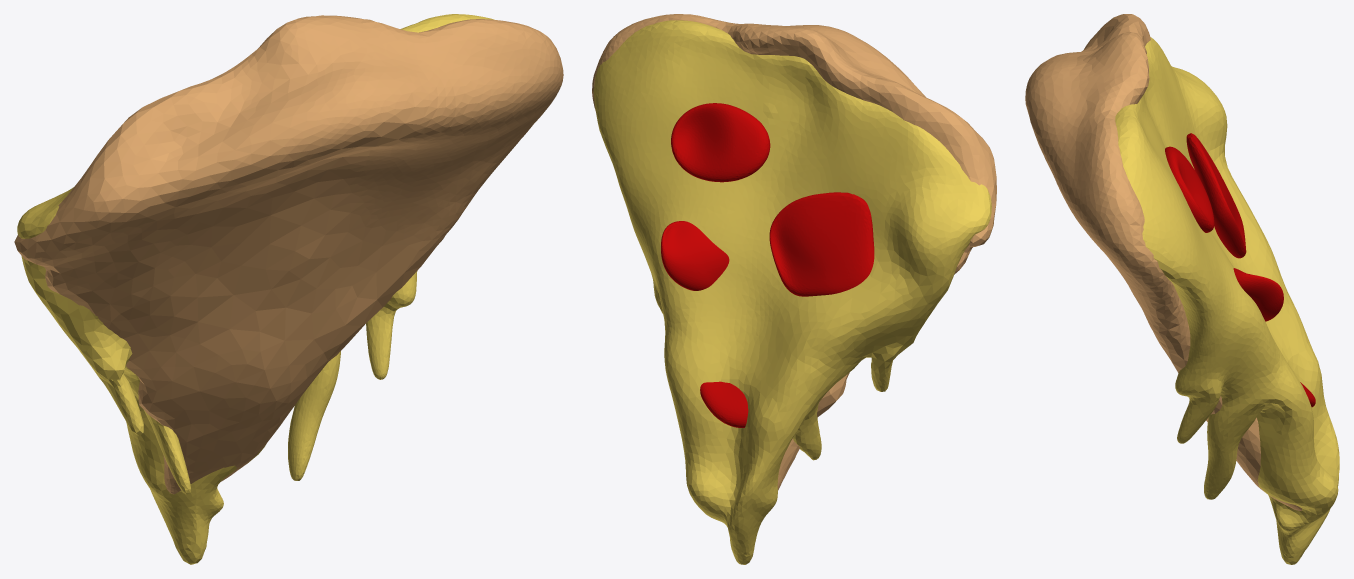
The model's file is Pizza.fbx.
The picture shows the model from 3 angles, left to right: view 1: azimuth 30°, elevation 25°; view 2: azimuth 150°, elevation 25°; view 3: azimuth 270°, elevation 25°; orthographic projection. The views are drawn at different scales.
Parts seen in each view (by area): view 1: polySurface13; view 2: polySurface13; view 3: polySurface13.
Boxes of the visible parts, box(x1,y1,x2,y2) form: polySurface13: box(14, 14, 563, 564); polySurface13: box(592, 14, 996, 564); polySurface13: box(1025, 14, 1339, 564).
Size of the model in its own units: 2.94 by 3.29 by 1.75.
